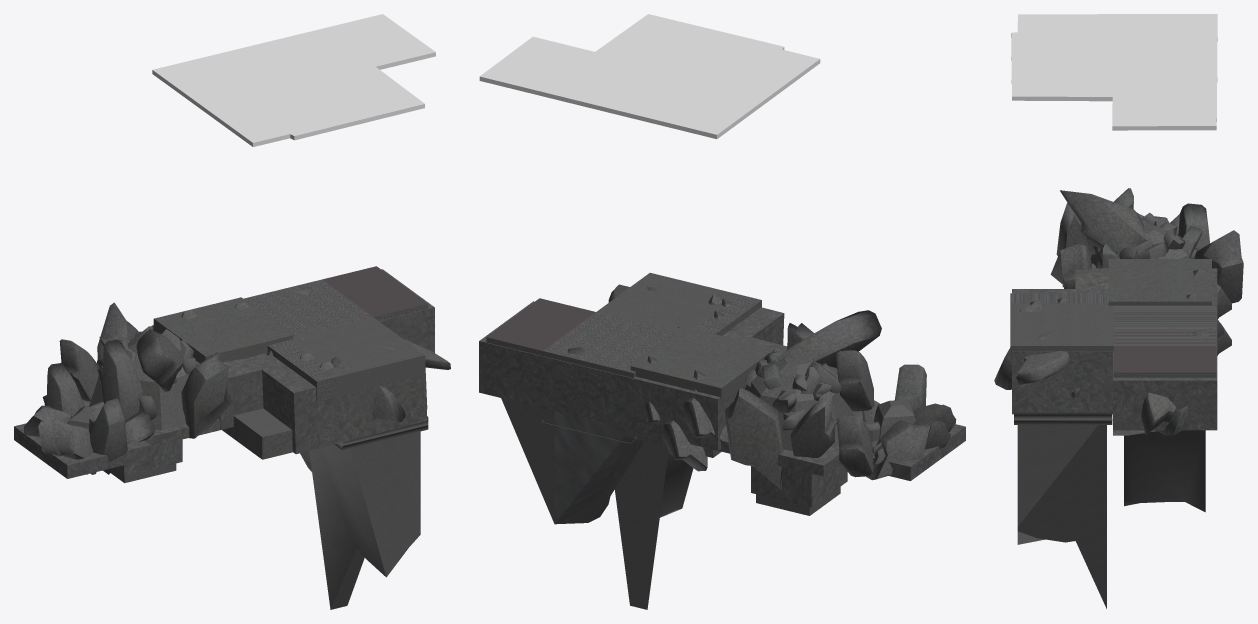
Rendered from main_world_v3.glb.
3 renders of one model, left to right at view 1: azimuth 30°, elevation 25°; view 2: azimuth 150°, elevation 25°; view 3: azimuth 270°, elevation 25°, orthographic. The views are drawn at different scales.
Visible parts, largest first — view 1: youximouxing_low(3), youximouxing_low(3).001, 立方体.001, 立方体; view 2: youximouxing_low(3), youximouxing_low(3).001, 立方体.001, 立方体; view 3: youximouxing_low(3), youximouxing_low(3).001, 立方体.001, 立方体.
Boxes of the visible parts, x1,y1,x2,y2 form: youximouxing_low(3): [14, 269, 450, 609]; youximouxing_low(3).001: [152, 14, 435, 146]; 立方体.001: [244, 266, 428, 401]; 立方体: [153, 297, 293, 363]; youximouxing_low(3): [479, 284, 965, 609]; youximouxing_low(3).001: [479, 14, 820, 138]; 立方体.001: [486, 273, 761, 378]; 立方体: [630, 327, 774, 399]; youximouxing_low(3): [994, 188, 1243, 608]; youximouxing_low(3).001: [1011, 14, 1217, 130]; 立方体.001: [1010, 293, 1216, 377]; 立方体: [1108, 259, 1211, 305].
Size of the model in its own units: 16.82 by 20.34 by 8.72.
2 materials, 1 textured.
